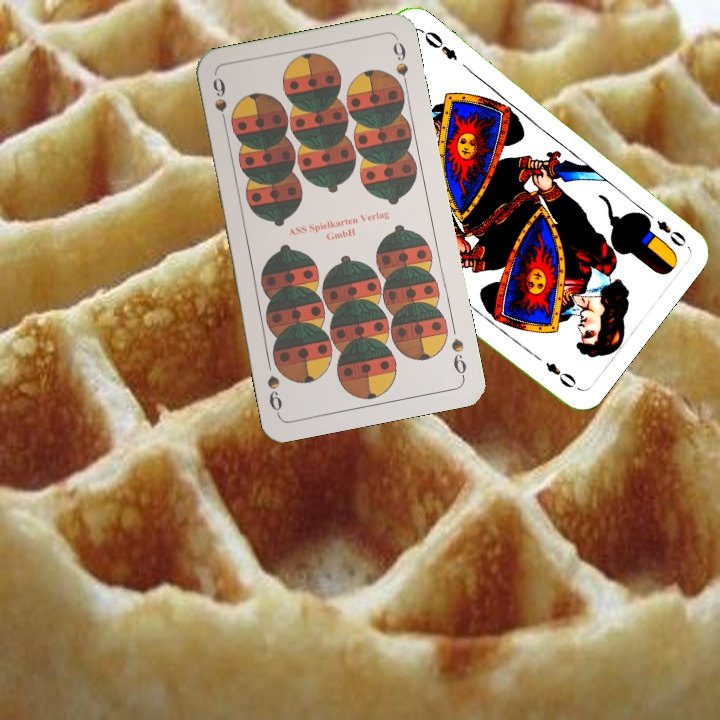EO: (652, 216, 689, 250)
S9: (208, 73, 230, 132), (447, 334, 469, 381)
